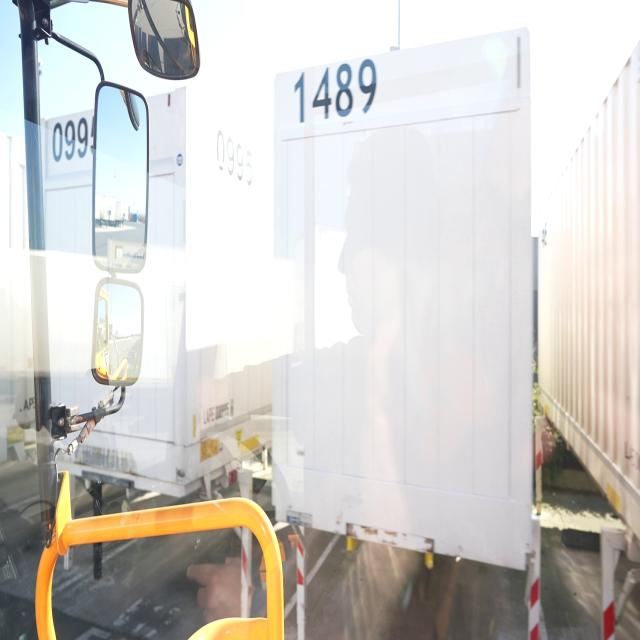Code: (284, 55, 380, 126)
